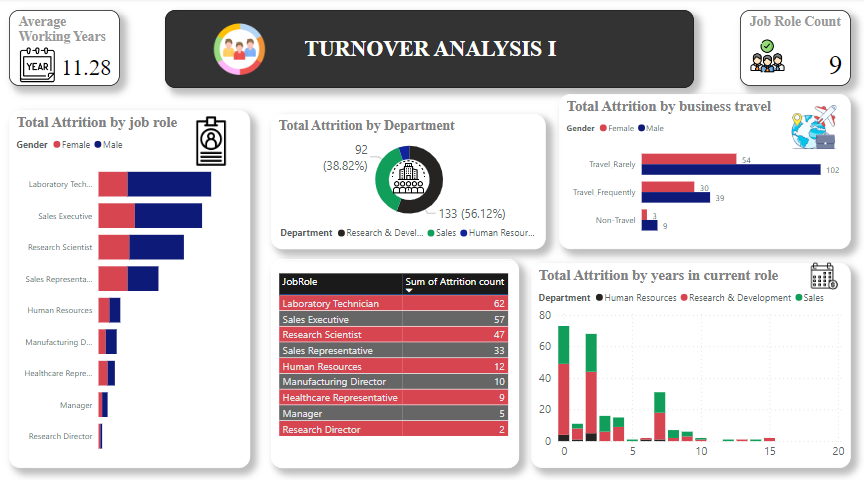

The dashboard page shown, as its layout file describes it:
{"tool":"powerbi","page":{"name":"Page 3","canvas":[1280,720],"ordinal":2},"visuals":[{"type":"textbox","box":[242.9,18,774.1,114],"z":0},{"type":"image","box":[305.9,30.7,92.2,87.8],"z":1000},{"type":"cardVisual","title":"Job Role Count","fields":{"Data":["Count(HR-Employee-Attrition.JobRole)"]},"box":[1084.4,17.6,162.4,111.2],"z":2000},{"type":"image","box":[1094.6,49.8,60,68.8],"z":3000},{"type":"cardVisual","title":"Average Working Years","fields":{"Data":["Avg(HR-Employee-Attrition.TotalWorkingYears)"]},"box":[14.6,17.6,162.4,111.2],"z":4000},{"type":"image","box":[14.6,67.3,82,61.5],"z":5000},{"type":"barChart","title":"Total Attrition by job role","fields":{"Category":["HR-Employee-Attrition.JobRole"],"Y":["Sum(HR-Employee-Attrition.Attrition count)"],"Series":["HR-Employee-Attrition.Gender"]},"box":[14.6,163.9,352.7,523.9],"z":6000},{"type":"image","box":[267.8,163.9,84.9,90.7],"z":7000},{"type":"clusteredBarChart","title":"Total Attrition by business travel","fields":{"Category":["HR-Employee-Attrition.BusinessTravel"],"Y":["Sum(HR-Employee-Attrition.Attrition count)"],"Series":["HR-Employee-Attrition.Gender"]},"box":[819.5,140.5,427.3,226.8],"z":8000},{"type":"image","box":[1154.6,150.7,76.1,76.1],"z":9000},{"type":"donutChart","title":"Total Attrition by Department","fields":{"Category":["HR-Employee-Attrition.Department"],"Y":["Sum(HR-Employee-Attrition.Attrition count)"]},"box":[398,169.8,402.4,197.6],"z":10000},{"type":"image","box":[569.3,226.8,60,70.2],"z":11000},{"type":"columnChart","title":"Total Attrition by years in current role ","fields":{"Category":["HR-Employee-Attrition.YearsInCurrentRole"],"Y":["Sum(HR-Employee-Attrition.Attrition count)"],"Series":["HR-Employee-Attrition.Department"]},"box":[778.5,387.8,468.3,300],"z":12000},{"type":"image","box":[1167.8,382,79,49.8],"z":13000},{"type":"tableEx","fields":{"Values":["HR-Employee-Attrition.JobRole","Sum(HR-Employee-Attrition.Attrition count)"]},"box":[398,382,362.9,305.9],"z":14000}]}

Visuals, with their boxes in screenshot pixels (x1, y1, x2, y2), scaled from the page's 1280x720 canvas onto the 864x480 screenshot:
textbox: [x1=164, y1=12, x2=686, y2=88]
image: [x1=206, y1=20, x2=269, y2=79]
"Job Role Count" cardVisual: [x1=732, y1=12, x2=842, y2=86]
image: [x1=739, y1=33, x2=779, y2=79]
"Average Working Years" cardVisual: [x1=10, y1=12, x2=119, y2=86]
image: [x1=10, y1=45, x2=65, y2=86]
"Total Attrition by job role" barChart: [x1=10, y1=109, x2=248, y2=459]
image: [x1=181, y1=109, x2=238, y2=170]
"Total Attrition by business travel" clusteredBarChart: [x1=553, y1=94, x2=842, y2=245]
image: [x1=779, y1=100, x2=831, y2=151]
"Total Attrition by Department" donutChart: [x1=269, y1=113, x2=540, y2=245]
image: [x1=384, y1=151, x2=425, y2=198]
"Total Attrition by years in current role " columnChart: [x1=525, y1=259, x2=842, y2=459]
image: [x1=788, y1=255, x2=842, y2=288]
tableEx - HR-Employee-Attrition.JobRole x Sum(HR-Employee-Attrition.Attrition count): [x1=269, y1=255, x2=514, y2=459]
